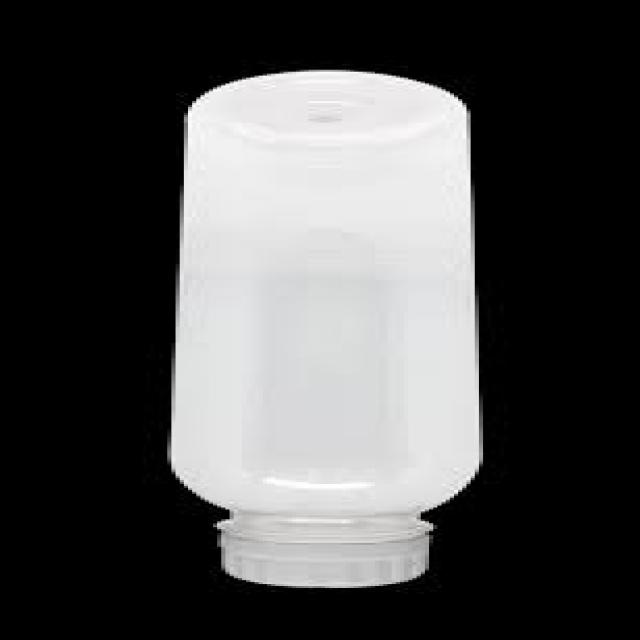cap: (162, 67, 474, 150), (187, 515, 482, 596)
